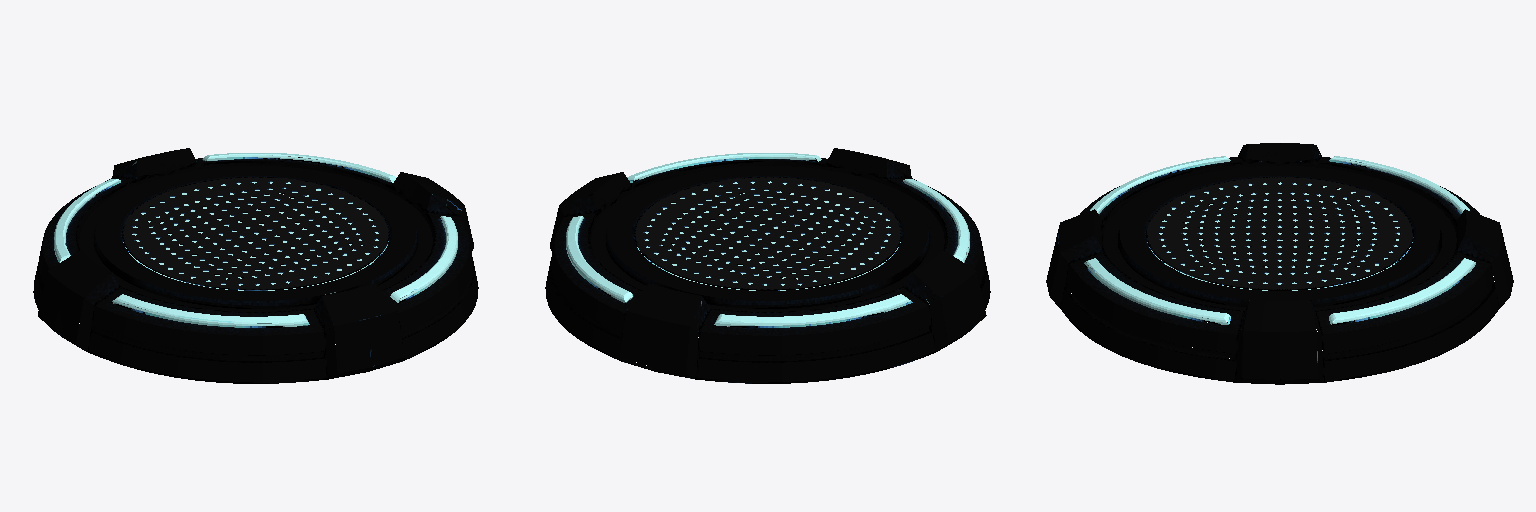
3 renders of one model, left to right at view 1: azimuth 30°, elevation 25°; view 2: azimuth 150°, elevation 25°; view 3: azimuth 270°, elevation 25°, orthographic.
Parts seen in each view (by area): view 1: Pedestal_Pod; view 2: Pedestal_Pod; view 3: Pedestal_Pod.
Part boxes in pixels (x1,y1,x2,y2): Pedestal_Pod: (33,148,478,383); Pedestal_Pod: (545,148,990,383); Pedestal_Pod: (1046,143,1513,384).
Bounding box in the file's own units: 1 × 0.1604 × 1.
1 materials, 1 textured.